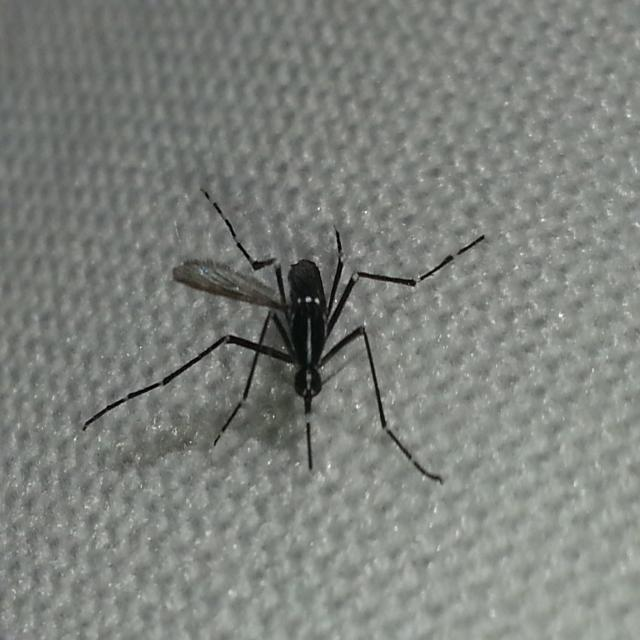albopictus: (88, 156, 492, 509)
